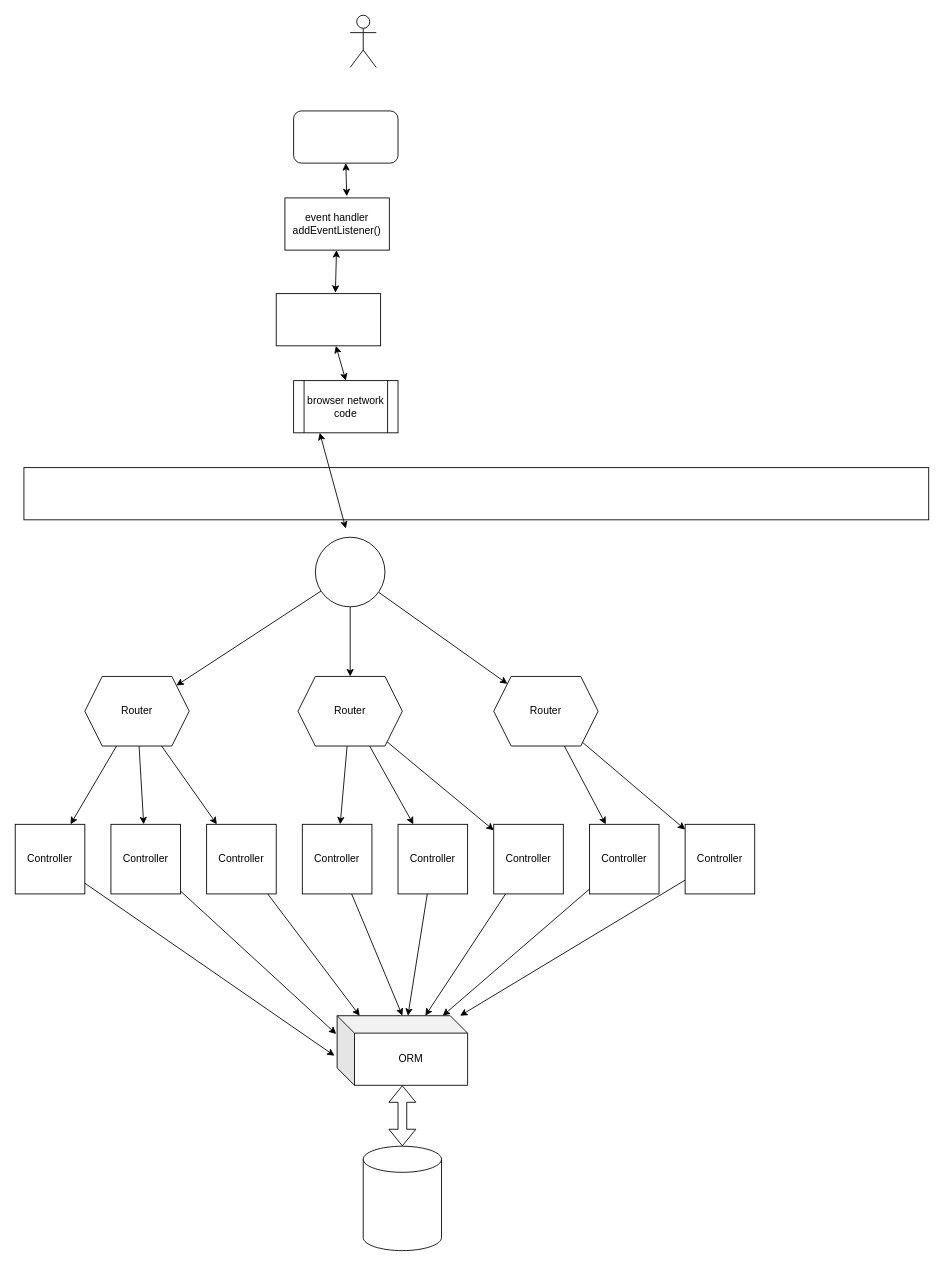
This 944x1266 diagram has some shape labels left out. The shapes that lost their labels are listed below. From the top down, each one's centre as x and y in pixels, then its label:
pixel 362 40: Actor
pixel 345 136: DOM maniplation
pixel 328 319: fetch()
pixel 350 571: app.js
pixel 402 1198: PostgreSQL
